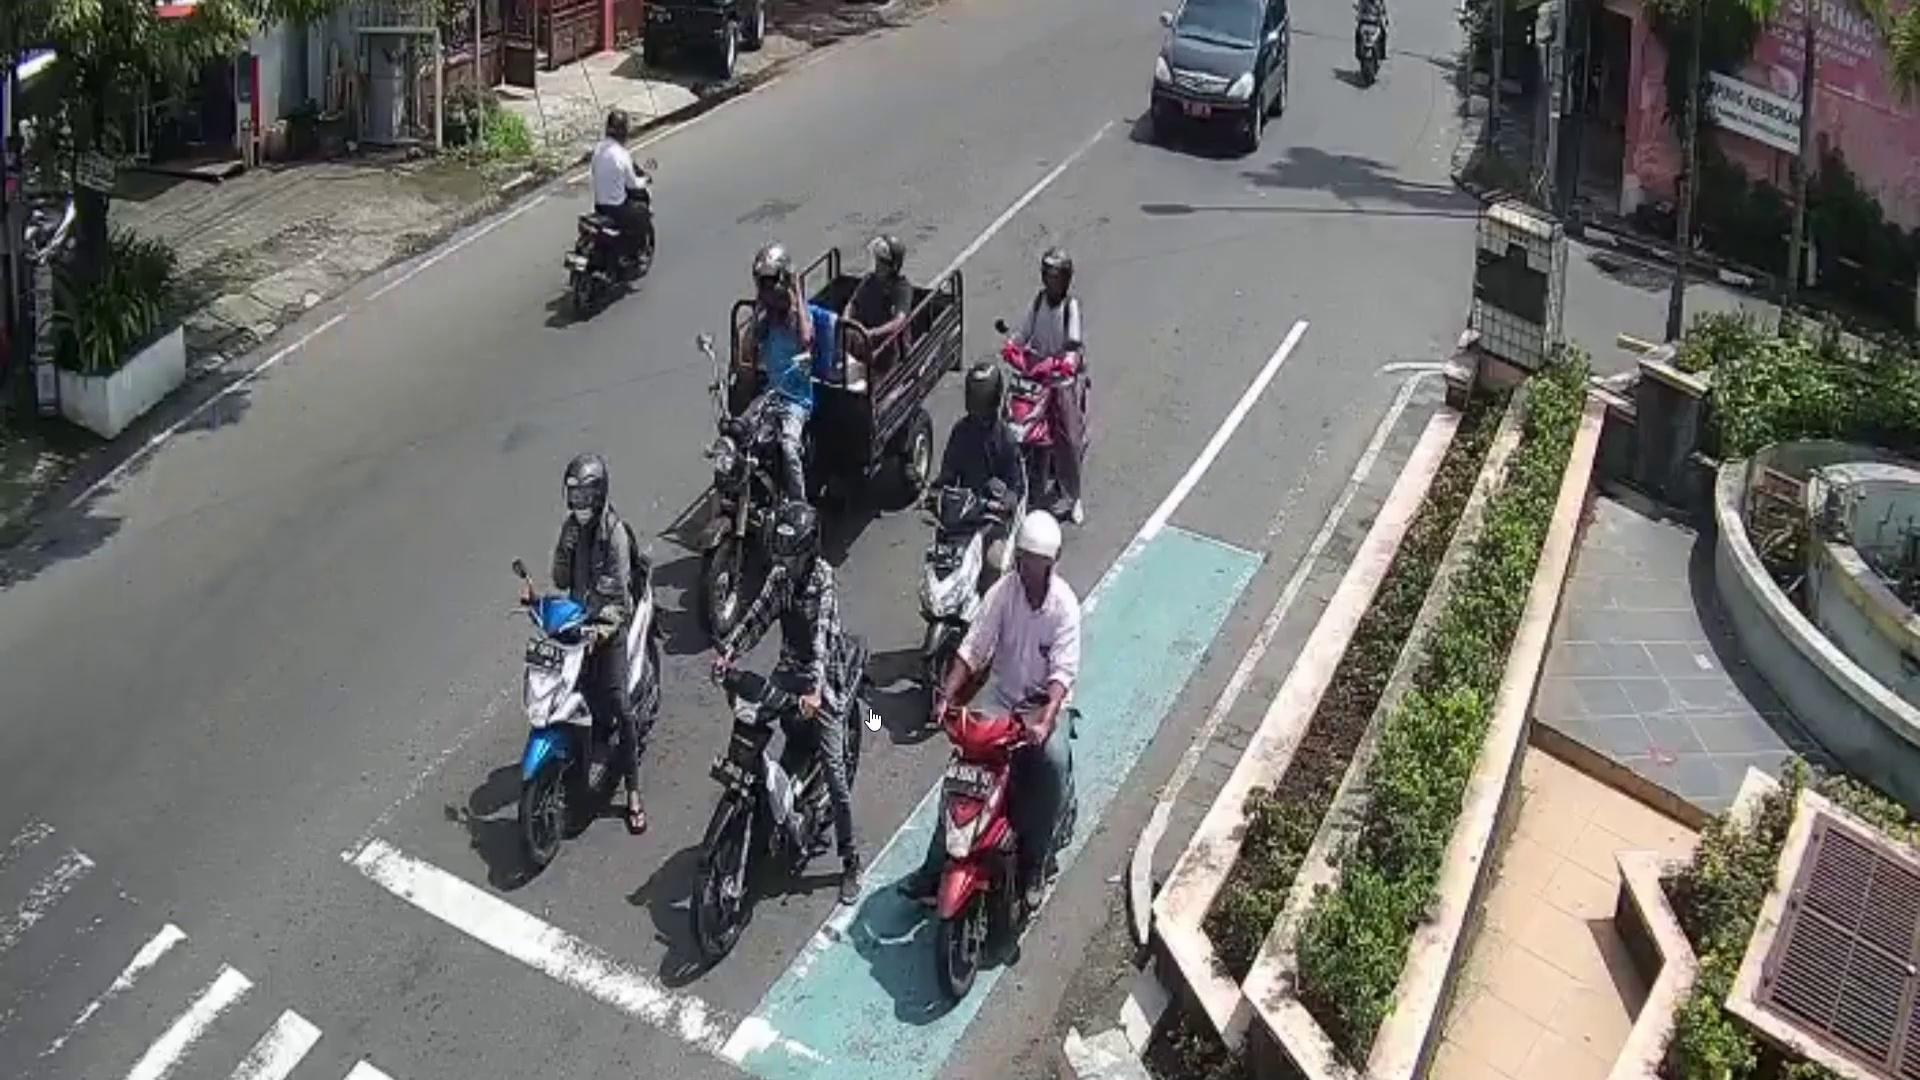car: (1146, 0, 1292, 152)
motorbike: (691, 632, 872, 949), (517, 542, 661, 884), (931, 707, 1030, 1005), (920, 475, 1034, 731), (700, 405, 812, 649), (566, 160, 655, 311)
